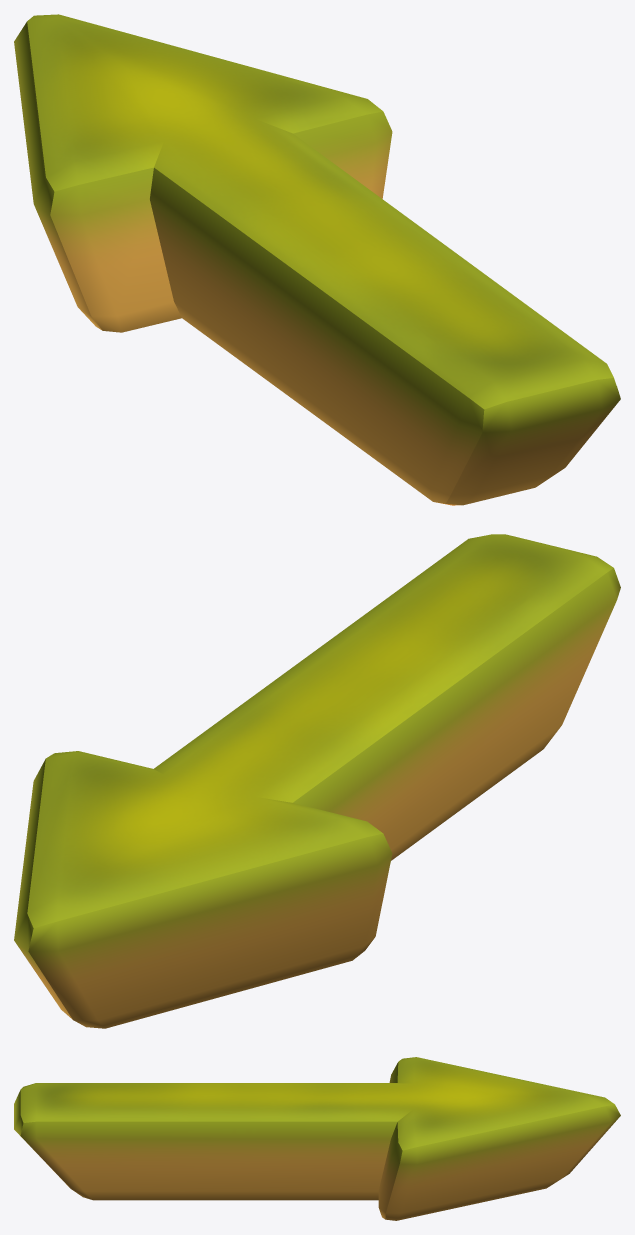
Rendered from yazirushi_01.fbx.
3 renders of one model, top to bottom at view 1: azimuth 30°, elevation 25°; view 2: azimuth 150°, elevation 25°; view 3: azimuth 270°, elevation 25°, orthographic. The views are drawn at different scales.
Visible parts, largest first — view 1: yazirusi4; view 2: yazirusi4; view 3: yazirusi4.
Part boxes in pixels (bbox=[...]): yazirusi4: bbox=[14, 14, 620, 505]; yazirusi4: bbox=[14, 534, 620, 1028]; yazirusi4: bbox=[14, 1057, 620, 1220].
Size of the model in its own units: 2.17 by 0.9804 by 5.78.
